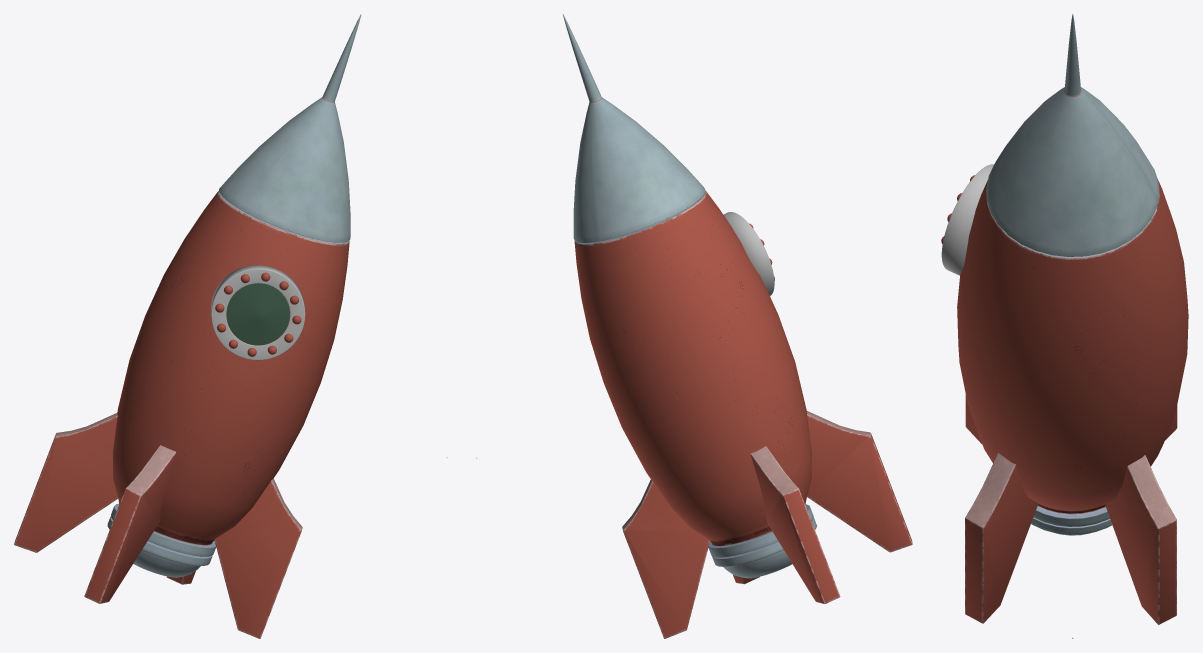
Rendered from crew-rocket.glb.
3 renders of one model, left to right at view 1: azimuth 30°, elevation 25°; view 2: azimuth 150°, elevation 25°; view 3: azimuth 270°, elevation 25°, orthographic. The views are drawn at different scales.
Parts seen in each view (by area): view 1: Circle_0, Cube.001_0, Cube.000_0, Cube.002_0, Circle, Circle.001_1.002, Cube; view 2: Circle_0, Cube.002_0, Cube.003_0, Cube.001_0, Circle; view 3: Circle_0, Cube.000_0, Cube.003_0, Circle.
Part boxes in pixels (<box>): Circle_0: <box>107,14,361,577</box>; Cube.001_0: <box>14,413,118,552</box>; Cube.000_0: <box>214,478,302,638</box>; Cube.002_0: <box>84,445,176,603</box>; Circle: <box>211,265,305,360</box>; Circle.001_1.002: <box>226,283,289,345</box>; Cube: <box>215,272,301,356</box>; Circle_0: <box>562,14,816,578</box>; Cube.002_0: <box>807,411,912,552</box>; Cube.003_0: <box>622,479,709,638</box>; Cube.001_0: <box>750,446,840,603</box>; Circle: <box>723,212,774,295</box>; Circle_0: <box>957,14,1188,535</box>; Cube.000_0: <box>965,453,1038,623</box>; Cube.003_0: <box>1105,455,1176,624</box>; Circle: <box>941,164,993,275</box>.
Bounding box in the file's own units: 1.32 × 1.78 × 0.5756.
Materials: 5 (2 with a texture image).
